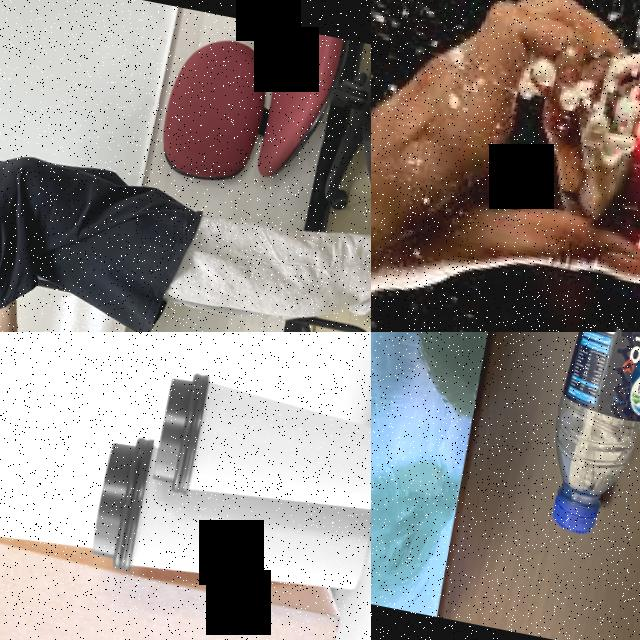bottle: (525, 332, 640, 567)
cup: (82, 429, 371, 623), (153, 368, 371, 537)
